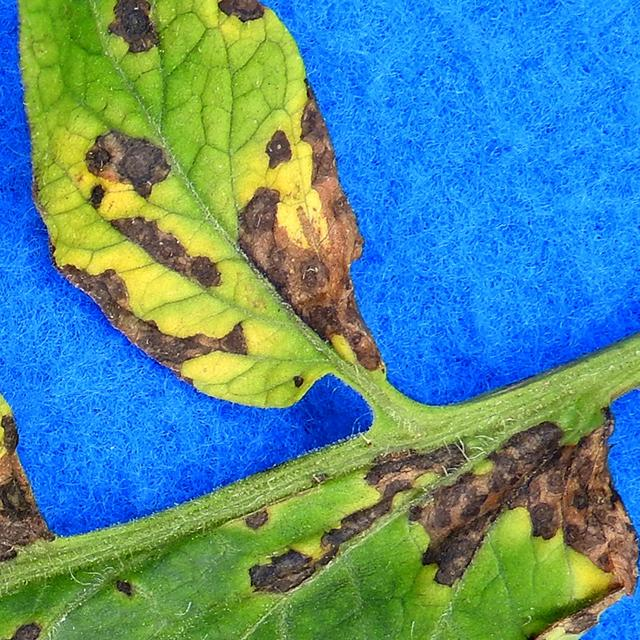Tomato leaf bacterial spot: (0, 253, 640, 640), (0, 0, 435, 412)
